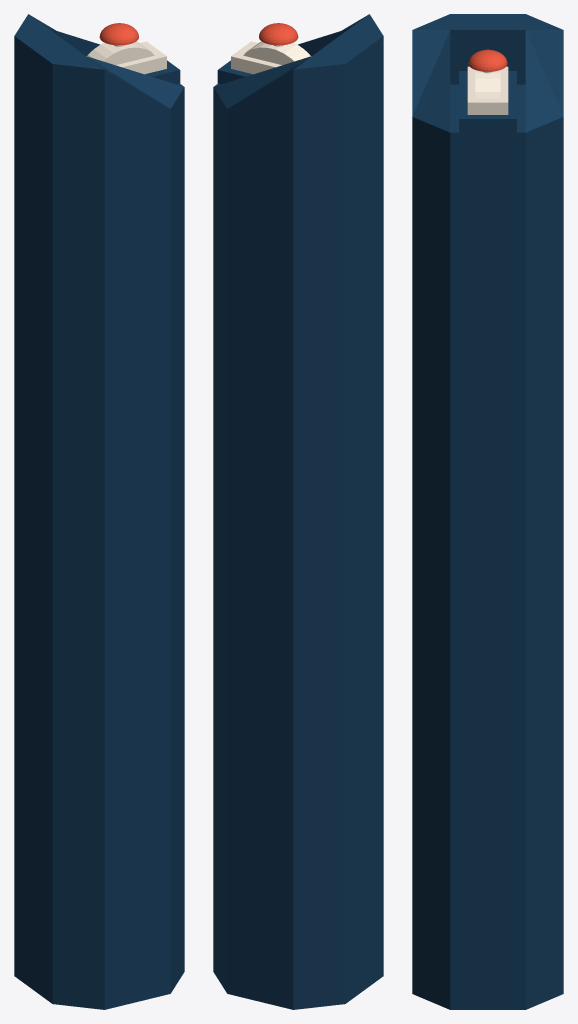
The model's file is Interactionpoint-Button.fbx.
3 views of the same model, side by side, from view 1: azimuth 30°, elevation 25°; view 2: azimuth 150°, elevation 25°; view 3: azimuth 270°, elevation 25° (orthographic).
Parts seen in each view (by area): view 1: Cube, Cube.001, Sphere; view 2: Cube, Cube.001, Sphere; view 3: Cube, Cube.001, Sphere.
Part boxes in pixels (x1,y1,x2,y2): Cube: (14,14,184,1009); Cube.001: (86,41,166,74); Sphere: (99,23,138,45); Cube: (213,14,383,1009); Cube.001: (231,41,311,74); Sphere: (259,23,298,45); Cube: (412,14,563,1009); Cube.001: (467,66,508,114); Sphere: (468,49,507,71).
Bounding box in the file's own units: 100 × 682 × 100.
